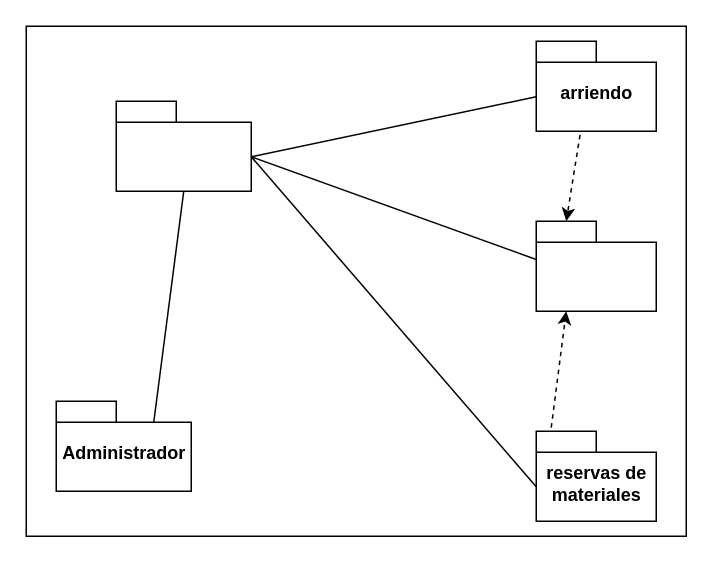
The diagram is 713 pixels wide and 563 high, and some of its shapes have lost their labels. The centre of each missing label's shape, as x and y in pixels:
promociones: pixel 595 265
registro: pixel 183 145
